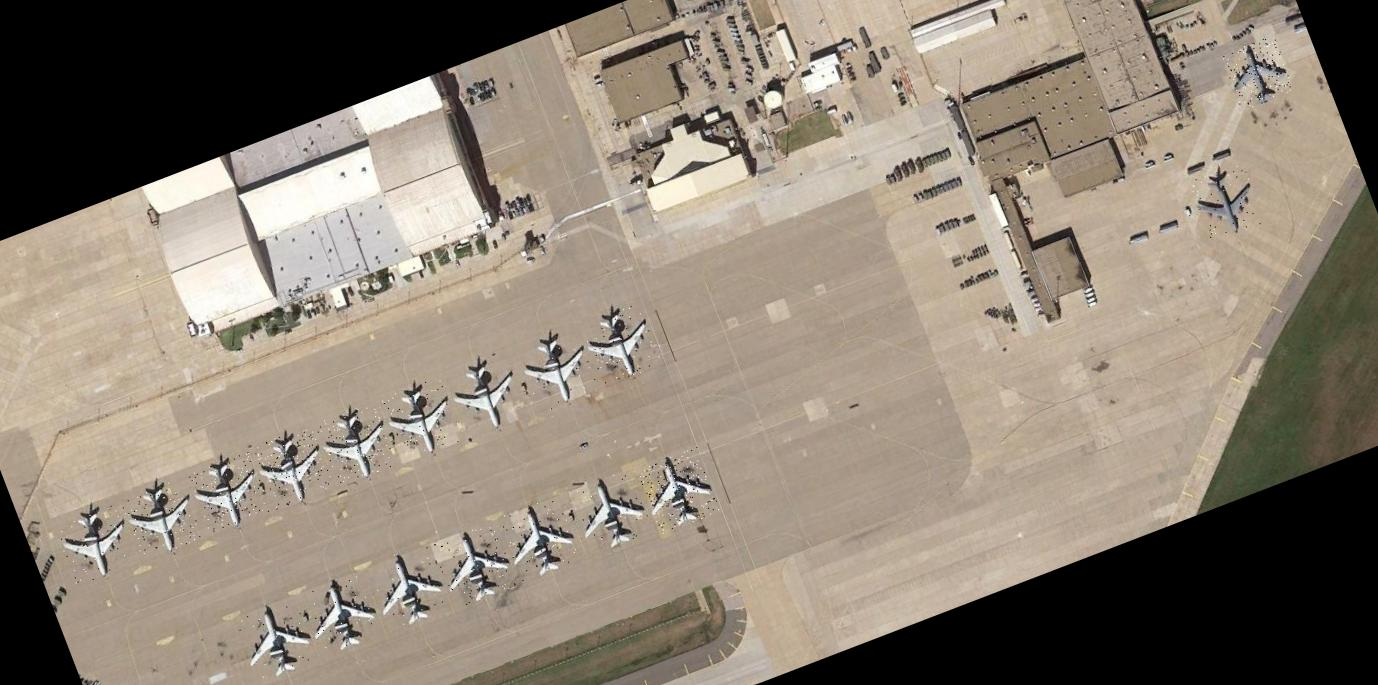A14: (1186, 161, 1266, 244), (1220, 34, 1295, 110)
A7: (566, 464, 654, 557), (364, 540, 452, 629), (578, 300, 665, 388), (432, 521, 518, 609), (52, 500, 139, 586), (636, 446, 721, 534), (446, 350, 530, 439), (380, 374, 464, 462), (497, 494, 581, 582), (516, 326, 600, 413), (119, 475, 204, 560), (314, 401, 398, 487), (233, 598, 318, 682), (252, 424, 334, 509), (187, 452, 271, 534), (300, 572, 383, 654)
